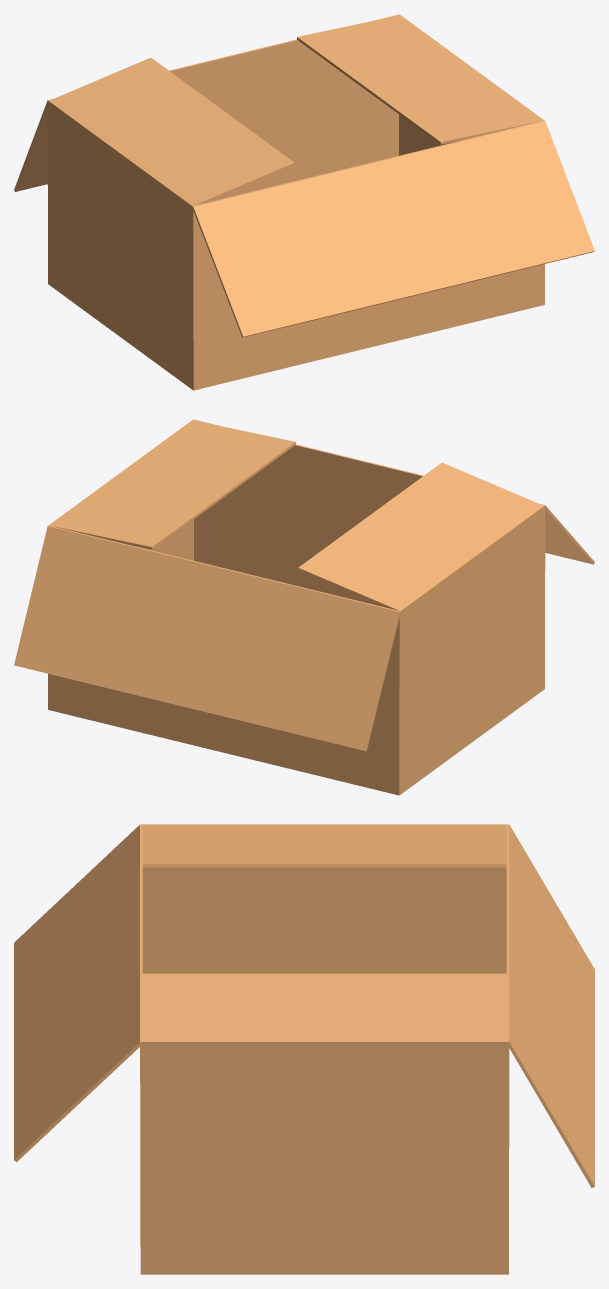
The model's file is semi open box.fbx.
3 renders of one model, top to bottom at view 1: azimuth 30°, elevation 25°; view 2: azimuth 150°, elevation 25°; view 3: azimuth 270°, elevation 25°, orthographic. The views are drawn at different scales.
Parts seen in each view (by area): view 1: Plane.003; view 2: Plane.003; view 3: Plane.003.
Boxes of the visible parts, box(x1,y1,x2,y2) form: Plane.003: box(14, 14, 594, 390); Plane.003: box(14, 419, 594, 795); Plane.003: box(14, 824, 594, 1274).
Bounding box in the file's own units: 32.96 × 18.11 × 37.2.
